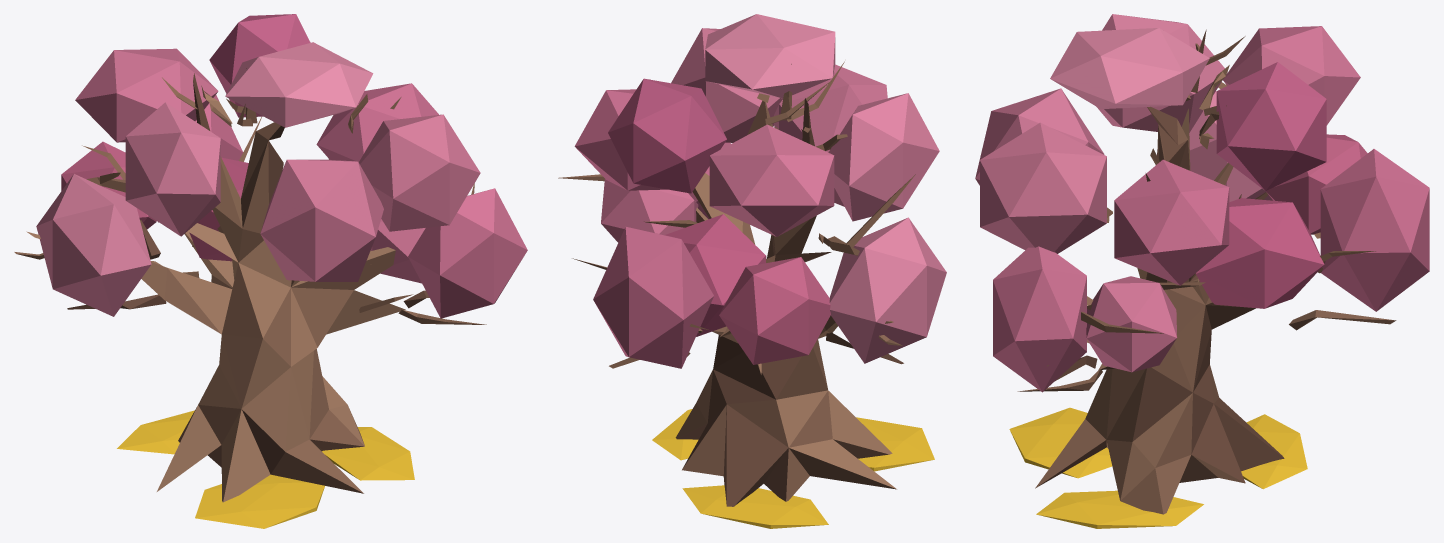
File: giant_cherry_bloom_far.glb
The picture shows the model from 3 angles, left to right: view 1: azimuth 30°, elevation 25°; view 2: azimuth 150°, elevation 25°; view 3: azimuth 270°, elevation 25°; orthographic projection. The views are drawn at different scales.
Visible parts, largest first — view 1: giant_cherry_bloom_far; view 2: giant_cherry_bloom_far; view 3: giant_cherry_bloom_far.
Boxes of the visible parts, x1=… form: giant_cherry_bloom_far: x1=14, y1=14, x2=527, y2=528; giant_cherry_bloom_far: x1=558, y1=14, x2=946, y2=528; giant_cherry_bloom_far: x1=975, y1=14, x2=1429, y2=528.
Size of the model in its own units: 25.66 by 25.09 by 23.58.
